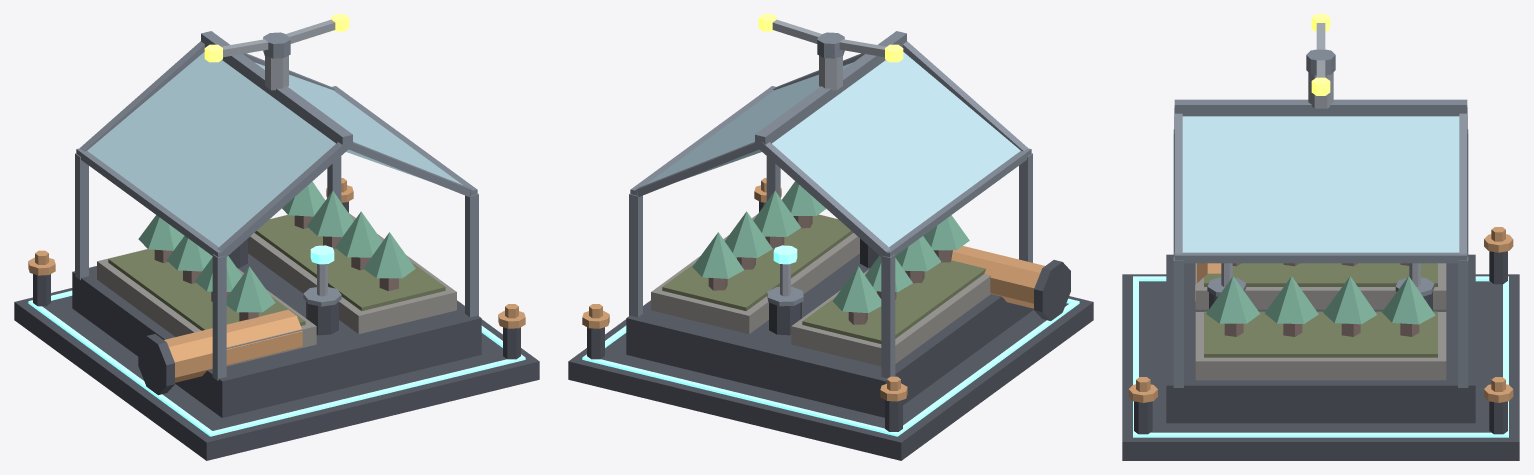
The model's file is viveiro_sem_textura.glb.
3 views of the same model, side by side, from view 1: azimuth 30°, elevation 25°; view 2: azimuth 150°, elevation 25°; view 3: azimuth 270°, elevation 25° (orthographic). The views are drawn at different scales.
Visible parts, largest first — view 1: viveiro_corpo, viveiro_antena, viveiro_pistao0; view 2: viveiro_corpo, viveiro_antena, viveiro_pistao1; view 3: viveiro_corpo, viveiro_antena.
Part boxes in pixels (x1=…): viveiro_corpo: x1=14, y1=31, x2=539, y2=460; viveiro_antena: x1=204, y1=14, x2=349, y2=62; viveiro_pistao0: x1=310, y1=245, x2=334, y2=296; viveiro_corpo: x1=568, y1=31, x2=1093, y2=460; viveiro_antena: x1=758, y1=14, x2=903, y2=62; viveiro_pistao1: x1=773, y1=245, x2=797, y2=296; viveiro_corpo: x1=1122, y1=72, x2=1519, y2=460; viveiro_antena: x1=1306, y1=14, x2=1335, y2=95.
Bounding box in the file's own units: 1.95 × 1.73 × 1.9.
